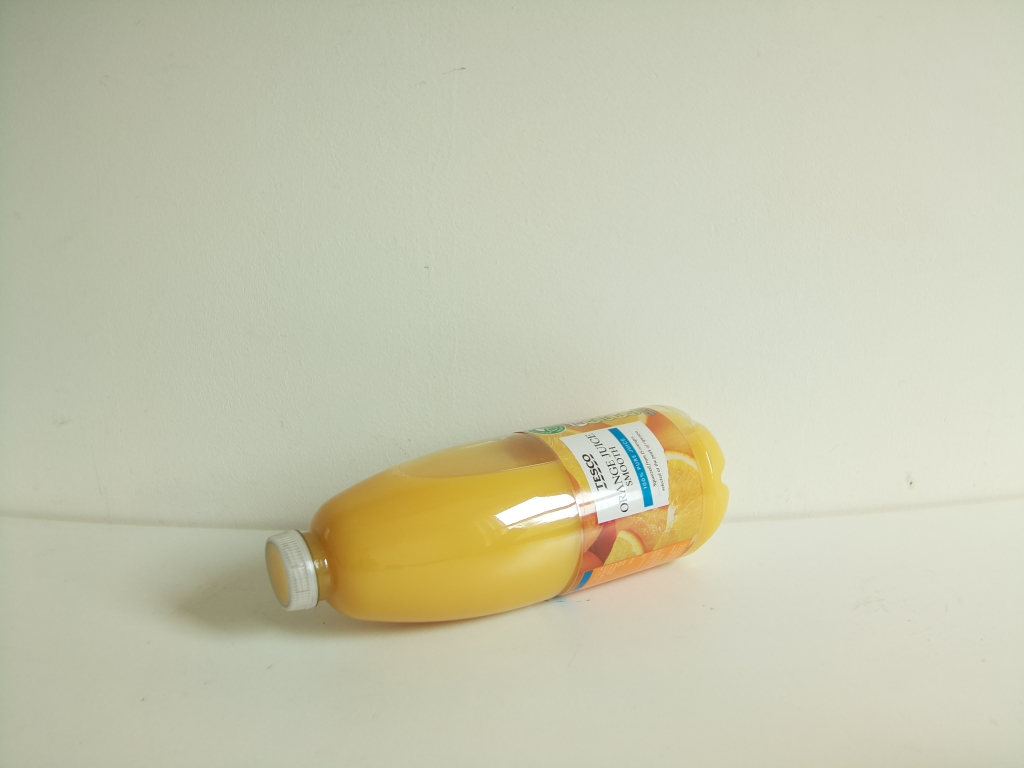juice: (263, 401, 731, 633)
